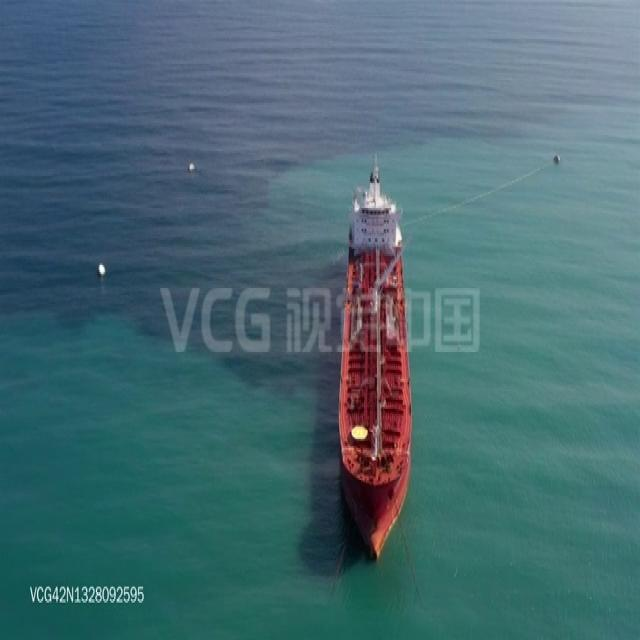cargoship: (338, 157, 415, 564)
